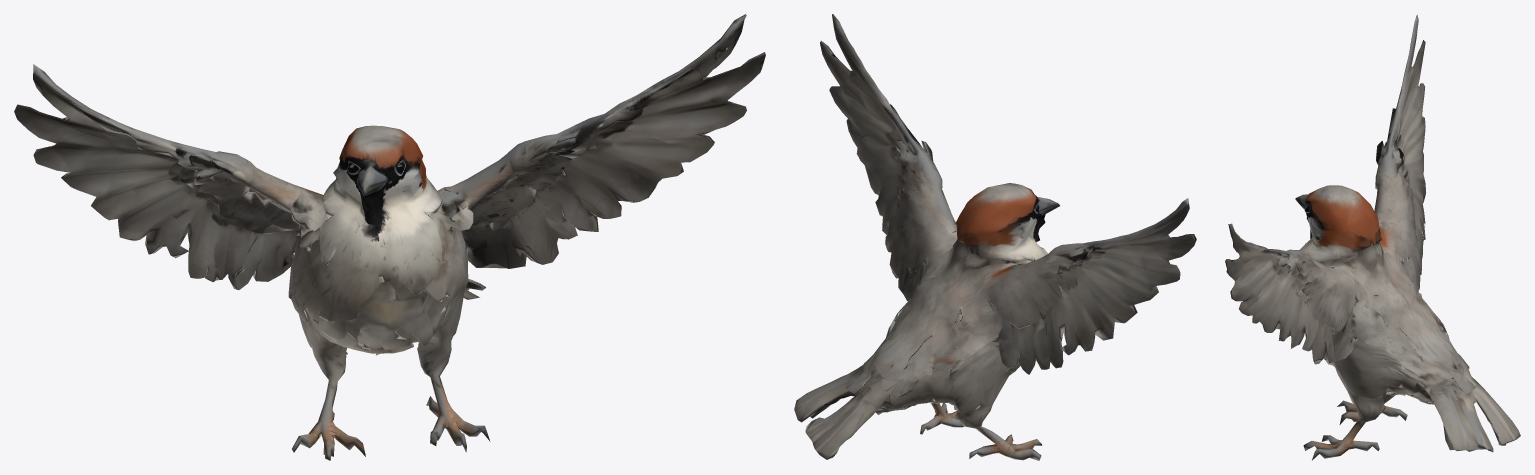
The model's file is bigfinch_A_h25.glb.
3 views of the same model, side by side, from view 1: azimuth 30°, elevation 25°; view 2: azimuth 150°, elevation 25°; view 3: azimuth 270°, elevation 25° (orthographic). The views are drawn at different scales.
Visible parts, largest first — view 1: tripo_node_11f72c47-f18d-44a5-bc9e-966d9daa1746; view 2: tripo_node_11f72c47-f18d-44a5-bc9e-966d9daa1746; view 3: tripo_node_11f72c47-f18d-44a5-bc9e-966d9daa1746.
Part boxes in pixels (bbox=[...]): tripo_node_11f72c47-f18d-44a5-bc9e-966d9daa1746: bbox=[14, 14, 765, 460]; tripo_node_11f72c47-f18d-44a5-bc9e-966d9daa1746: bbox=[794, 14, 1196, 460]; tripo_node_11f72c47-f18d-44a5-bc9e-966d9daa1746: bbox=[1225, 14, 1520, 460].
Bounding box in the file's own units: 1 × 0.6544 × 0.5639.
1 material, 1 textured.
